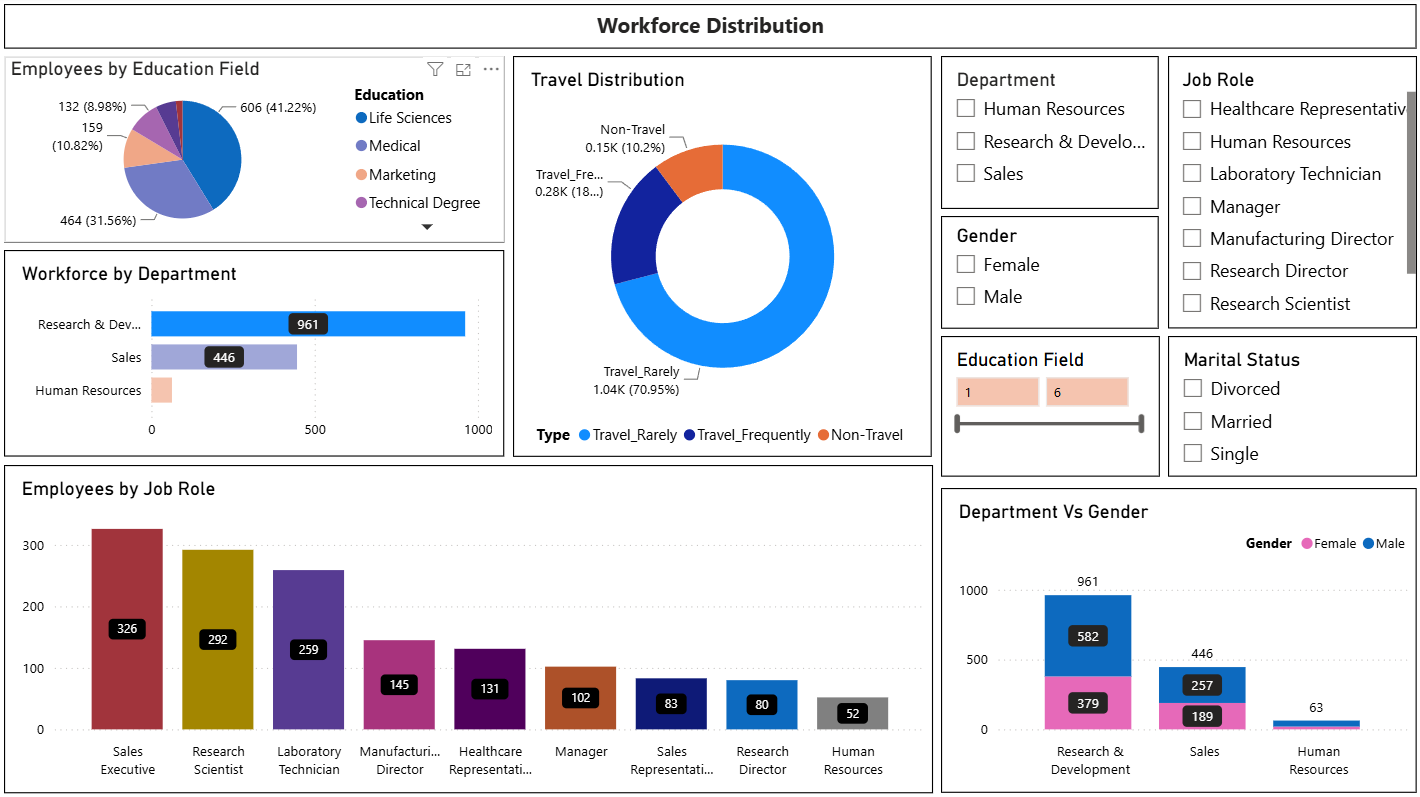

The page's visual inventory and layout, read from the dashboard file:
{"tool":"powerbi","page":{"name":"Workforce Distribution","canvas":[1280,720],"ordinal":1},"visuals":[{"type":"clusteredBarChart","title":"Workforce by Department","fields":{"Category":["hr department.department_name"],"Y":["hr business_travel.Total Employees"]},"box":[6.8,226.6,448.4,184.8],"z":0},{"type":"clusteredColumnChart","title":"Employees by Job Role","fields":{"Category":["hr job_role.job_role_name"],"Y":["hr business_travel.Total Employees"]},"box":[6.8,419.2,831.6,293.7],"z":1000},{"type":"pieChart","title":"Employees by Education Field","fields":{"Category":["hr education_field.education_field_name"],"Y":["hr business_travel.Total Employees"]},"box":[7.2,52.8,447.8,166.6],"z":2000},{"type":"donutChart","title":"Travel Distribution","fields":{"Y":["hr business_travel.Total Employees"],"Category":["hr business_travel.business_travel_name"]},"box":[463,52.5,375.4,358.9],"z":3000},{"type":"columnChart","title":"Department Vs Gender","fields":{"Category":["hr department.department_name"],"Series":["hr employee.gender"],"Y":["hr business_travel.Total Employees"]},"box":[846.3,439.7,426.3,273.1],"z":4000},{"type":"textbox","box":[7.2,6.3,1265.4,40.3],"z":5000},{"type":"slicer","fields":{"Values":["hr department.department_name"]},"box":[846.3,52.8,195.2,137],"z":6000},{"type":"slicer","fields":{"Values":["hr employee.gender"]},"box":[846.3,196.1,195.2,101.2],"z":7000},{"type":"slicer","fields":{"Values":["hr job_role.job_role_name"]},"box":[1049.6,52.8,223,244.5],"z":8000},{"type":"slicer","fields":{"Values":["hr employee.education_field_id"]},"box":[846.2,303.5,195.5,126.4],"z":9000},{"type":"slicer","fields":{"Values":["hr employee.marital_status"]},"box":[1049.5,303.5,222.7,126.4],"z":10000}]}

Visuals, with their boxes in screenshot pixels (x1, y1, x2, y2), scaled from the page's 1280x720 canvas onto the 1420x797 screenshot:
"Workforce by Department" clusteredBarChart: (left=8, top=251, right=505, bottom=455)
"Employees by Job Role" clusteredColumnChart: (left=8, top=464, right=930, bottom=789)
"Employees by Education Field" pieChart: (left=8, top=58, right=505, bottom=243)
"Travel Distribution" donutChart: (left=514, top=58, right=930, bottom=455)
"Department Vs Gender" columnChart: (left=939, top=487, right=1412, bottom=789)
textbox: (left=8, top=7, right=1412, bottom=52)
slicer - hr department.department_name: (left=939, top=58, right=1155, bottom=210)
slicer - hr employee.gender: (left=939, top=217, right=1155, bottom=329)
slicer - hr job_role.job_role_name: (left=1164, top=58, right=1412, bottom=329)
slicer - hr employee.education_field_id: (left=939, top=336, right=1156, bottom=476)
slicer - hr employee.marital_status: (left=1164, top=336, right=1411, bottom=476)
